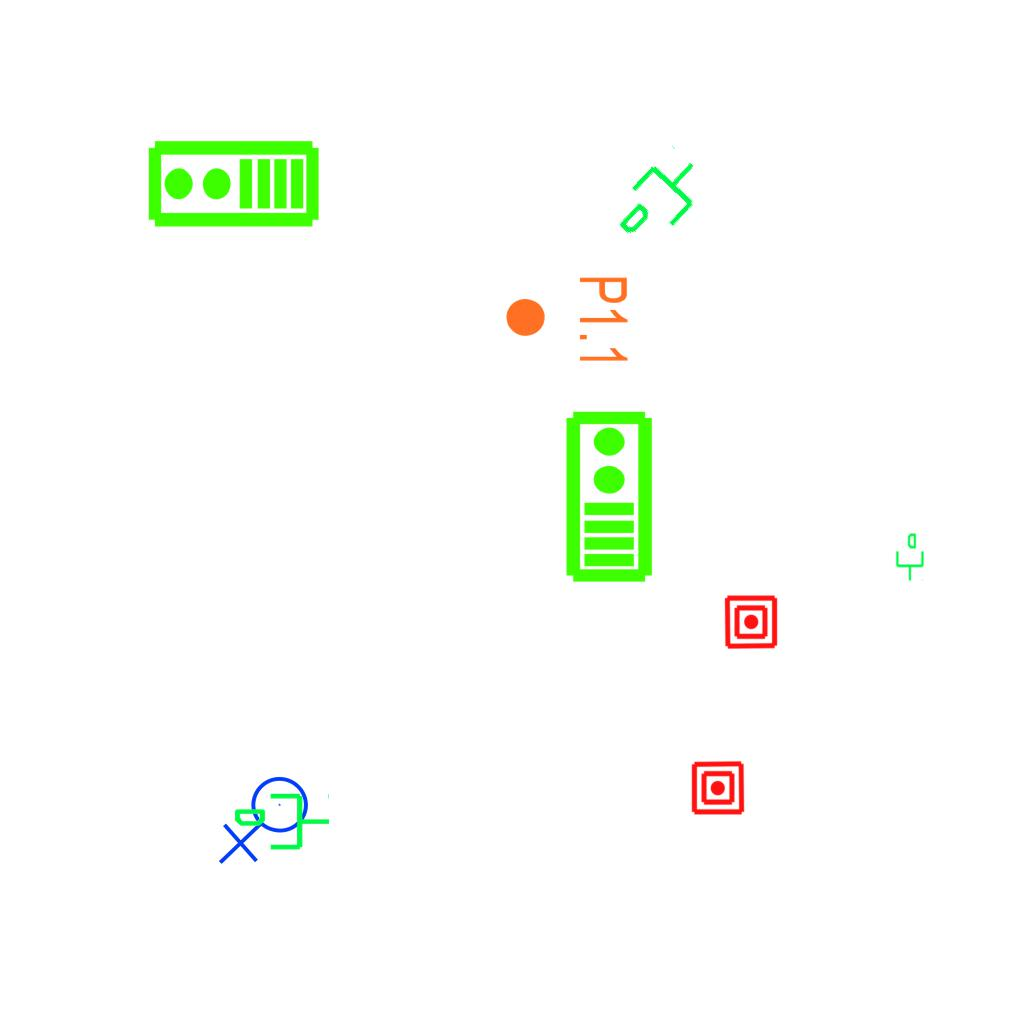Datenanschluss_einfach: (602, 139, 721, 261), (232, 789, 332, 858), (892, 532, 926, 582)
Downlight_LED_Einbauleuchten_Flur: (503, 274, 631, 367)
Elektroanschluss_allgemein_230V_Geraeteanschlussdose_230V: (218, 775, 317, 869)
Gegensprechanlage_mit_Video: (145, 138, 321, 233), (560, 408, 655, 584)
NAM-Nichtautomatischer_Melder: (723, 594, 779, 650), (690, 760, 746, 816)
